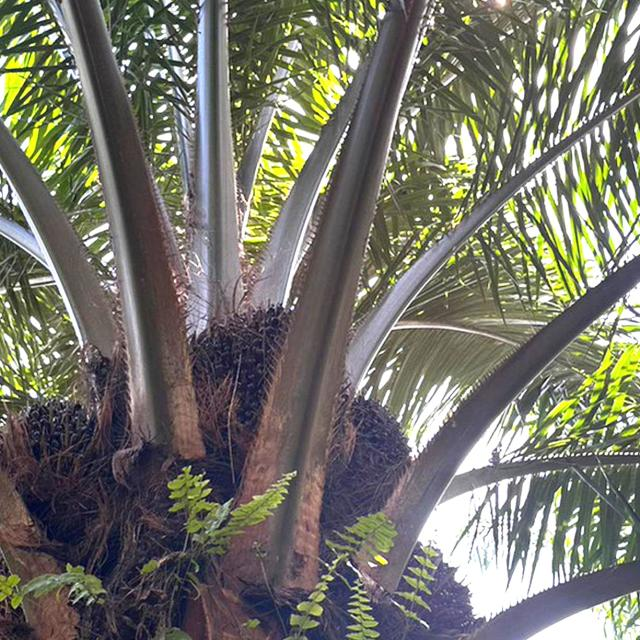almost: (177, 302, 300, 459), (324, 382, 418, 513), (16, 394, 110, 504)
